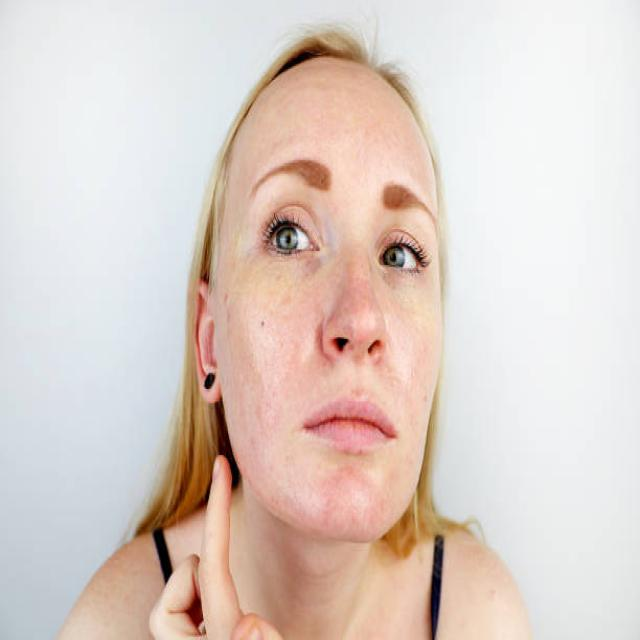Dry-Skin: (259, 289, 346, 453), (394, 293, 480, 376), (302, 458, 406, 523), (331, 106, 386, 196), (290, 115, 336, 218), (387, 382, 419, 438), (396, 134, 421, 190)
